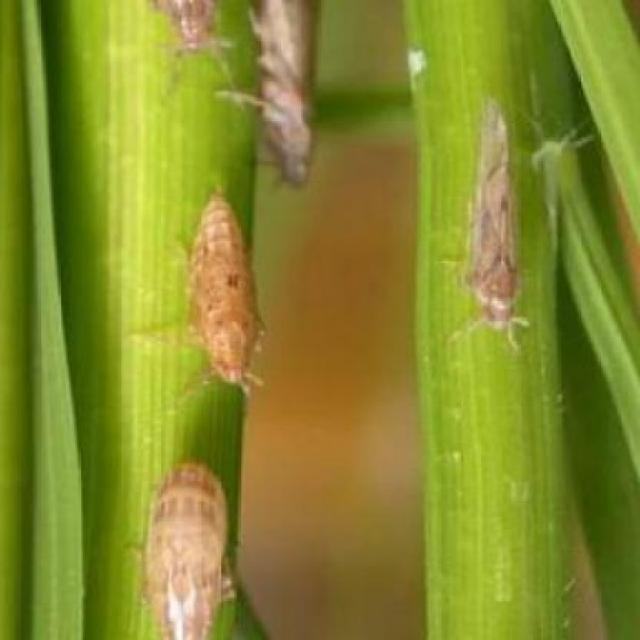brown-planthopper: (139, 455, 226, 640), (465, 94, 529, 332), (186, 197, 262, 386), (252, 0, 320, 185), (158, 0, 218, 57)
